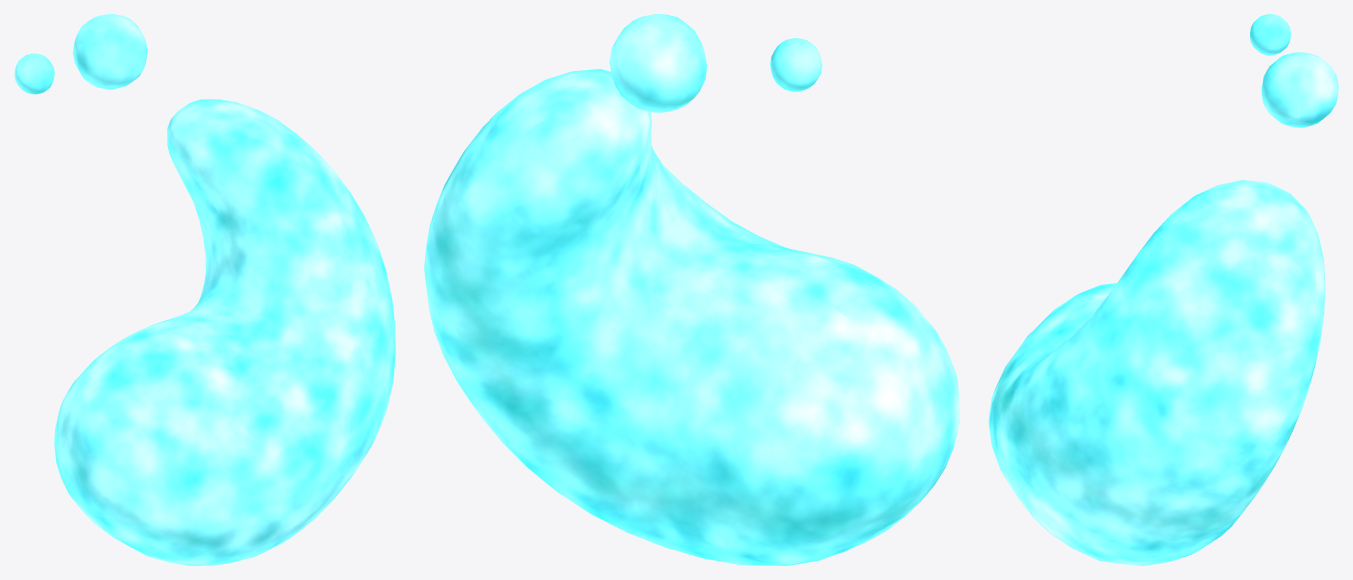
File: sky_decor_energy_soma_v35.glb
3 renders of one model, left to right at view 1: azimuth 30°, elevation 25°; view 2: azimuth 150°, elevation 25°; view 3: azimuth 270°, elevation 25°, orthographic. The views are drawn at different scales.
Visible parts, largest first — view 1: caos_drs_somaenergy_01a; view 2: caos_drs_somaenergy_01a; view 3: caos_drs_somaenergy_01a.
Part boxes in pixels (x1,y1,x2,y2): caos_drs_somaenergy_01a: [14, 14, 395, 565]; caos_drs_somaenergy_01a: [424, 14, 959, 565]; caos_drs_somaenergy_01a: [988, 14, 1338, 565].
Bounding box in the file's own units: 2.68 × 3.64 × 2.4.
Materials: 1 (1 with a texture image).
